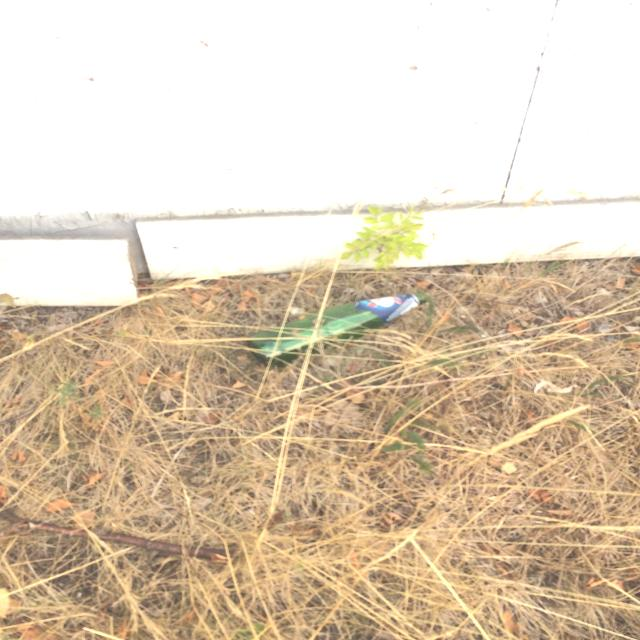Glass bottle: (247, 292, 427, 366)
